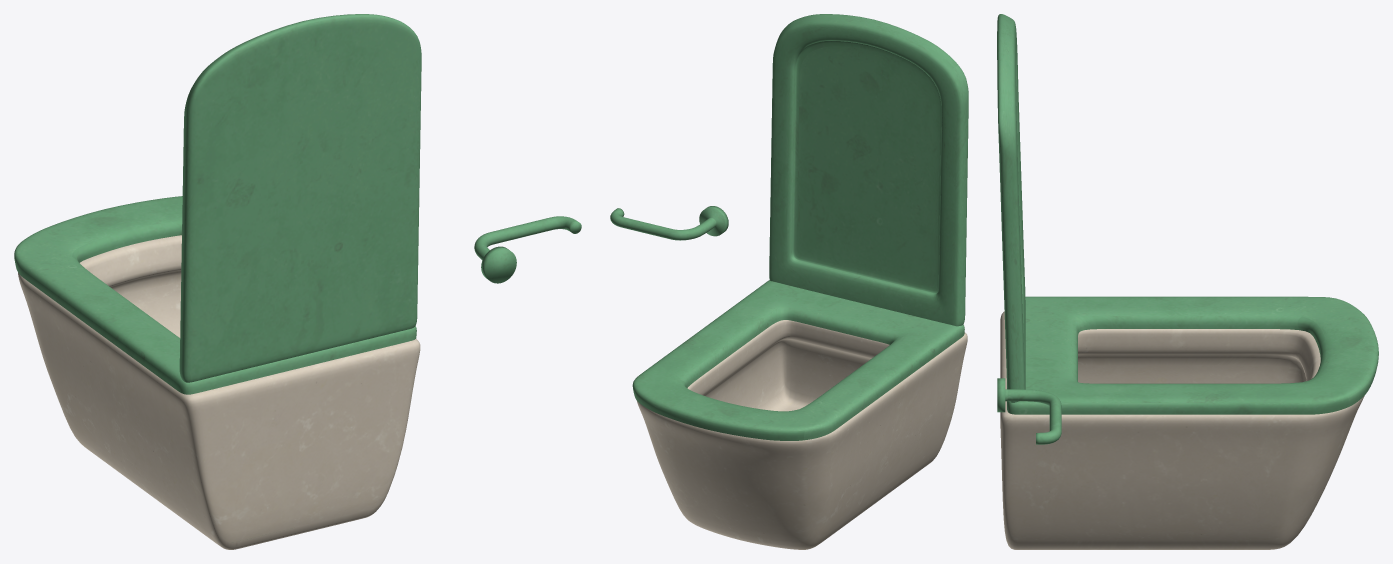
The model's file is water.fbx.
The picture shows the model from 3 angles, left to right: view 1: azimuth 30°, elevation 25°; view 2: azimuth 150°, elevation 25°; view 3: azimuth 270°, elevation 25°; orthographic projection. The views are drawn at different scales.
Visible parts, largest first — view 1: Cube.003, porta_cartaig; view 2: Cube.003, porta_cartaig; view 3: Cube.003, porta_cartaig.
Part boxes in pixels (left/top/right/bottom): Cube.003: left=14, top=14, right=421, bottom=549; porta_cartaig: left=474, top=216, right=581, bottom=283; Cube.003: left=632, top=14, right=968, bottom=549; porta_cartaig: left=610, top=206, right=728, bottom=240; Cube.003: left=997, top=14, right=1378, bottom=549; porta_cartaig: left=997, top=378, right=1061, bottom=444.
Bounding box in the file's own units: 90.53 × 109 × 77.89.
